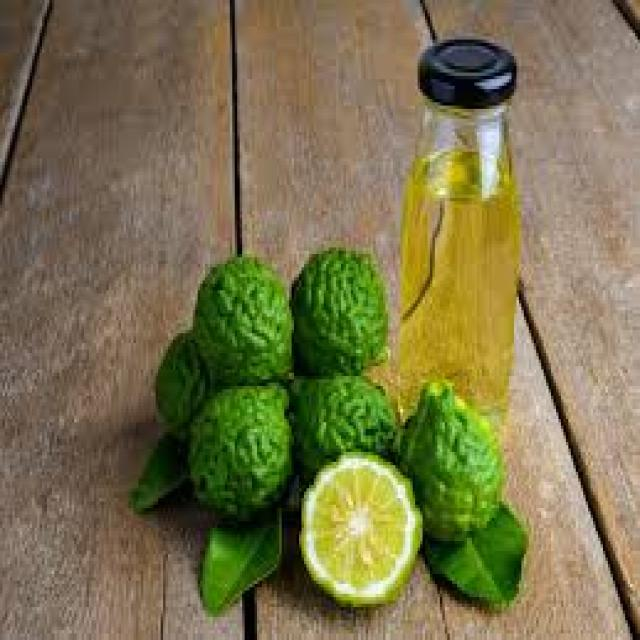Chuc: (296, 449, 422, 607), (396, 376, 506, 541), (185, 379, 292, 518), (190, 251, 294, 386), (289, 244, 388, 373), (289, 370, 395, 475)
